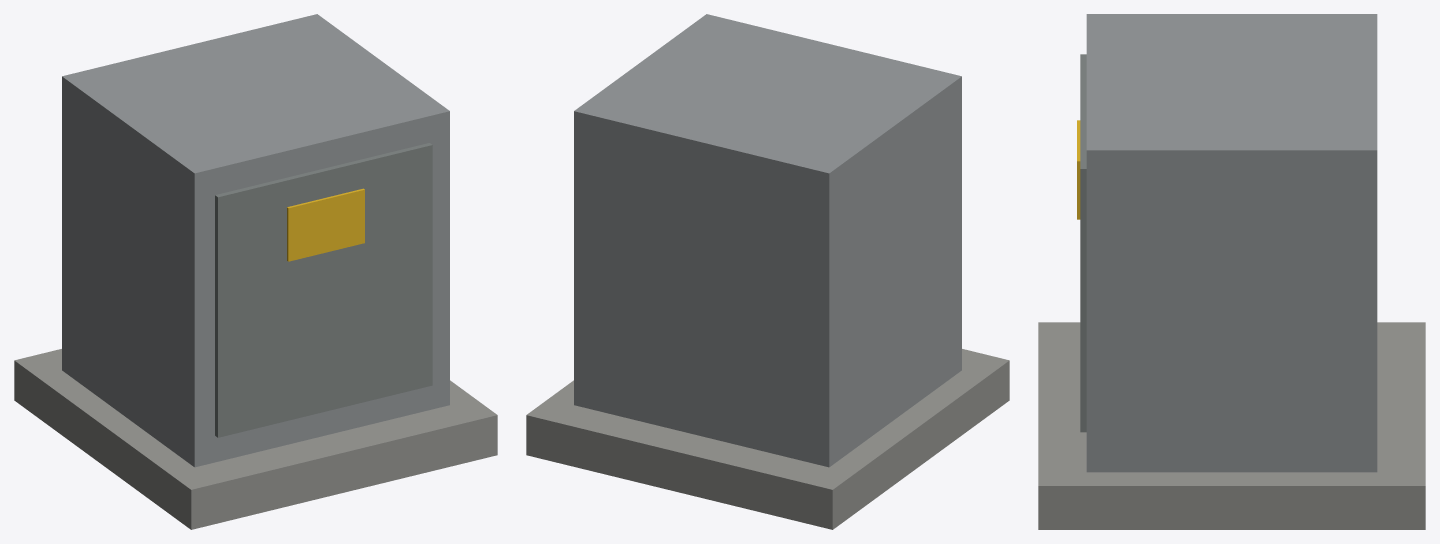
Rendered from SM_Prop_Powerbox_01.glb.
3 renders of one model, left to right at view 1: azimuth 30°, elevation 25°; view 2: azimuth 150°, elevation 25°; view 3: azimuth 270°, elevation 25°, orthographic. The views are drawn at different scales.
Visible parts, largest first — view 1: SM_Prop_Powerbox_01; view 2: SM_Prop_Powerbox_01; view 3: SM_Prop_Powerbox_01.
Boxes of the visible parts, bbox=[...] form: SM_Prop_Powerbox_01: bbox=[14, 14, 497, 529]; SM_Prop_Powerbox_01: bbox=[526, 14, 1009, 529]; SM_Prop_Powerbox_01: bbox=[1038, 14, 1425, 529].
Size of the model in its own units: 1.2 by 1.25 by 1.2.
Materials: 1 (1 with a texture image).
